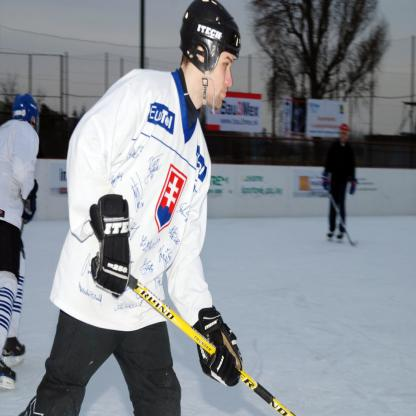Helmet: (170, 7, 243, 103), (12, 95, 39, 130)
